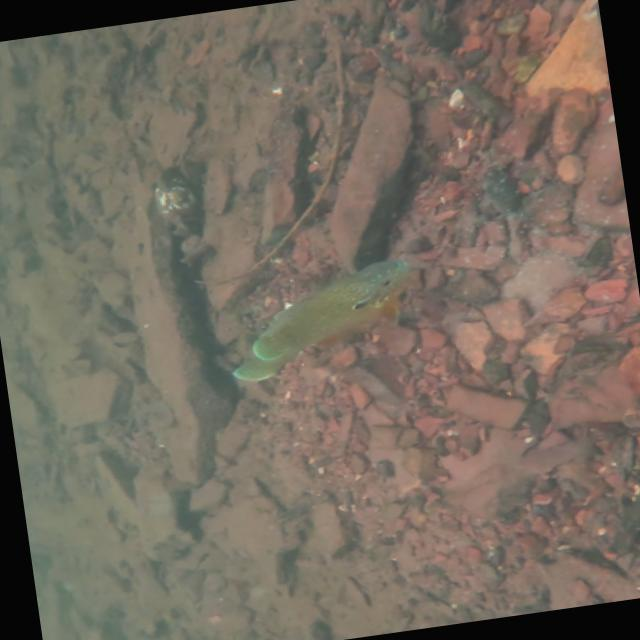Gunes Levregi: (218, 250, 433, 392)
